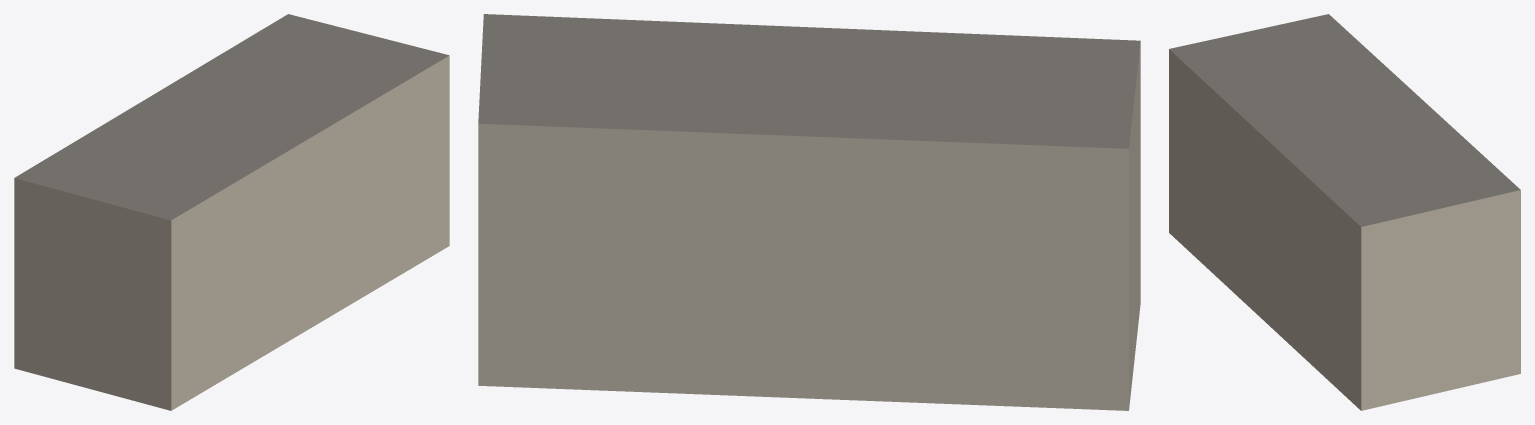
3 renders of one model, left to right at view 1: azimuth 30°, elevation 25°; view 2: azimuth 150°, elevation 25°; view 3: azimuth 270°, elevation 25°, orthographic. The views are drawn at different scales.
Parts seen in each view (by area): view 1: HP-w505633354; view 2: HP-w505633354; view 3: HP-w505633354.
Part boxes in pixels (x1,y1,x2,y2): HP-w505633354: (14,14,449,410); HP-w505633354: (478,14,1140,410); HP-w505633354: (1169,14,1520,410).
Size of the model in its own units: 44.72 by 18 by 31.21.
